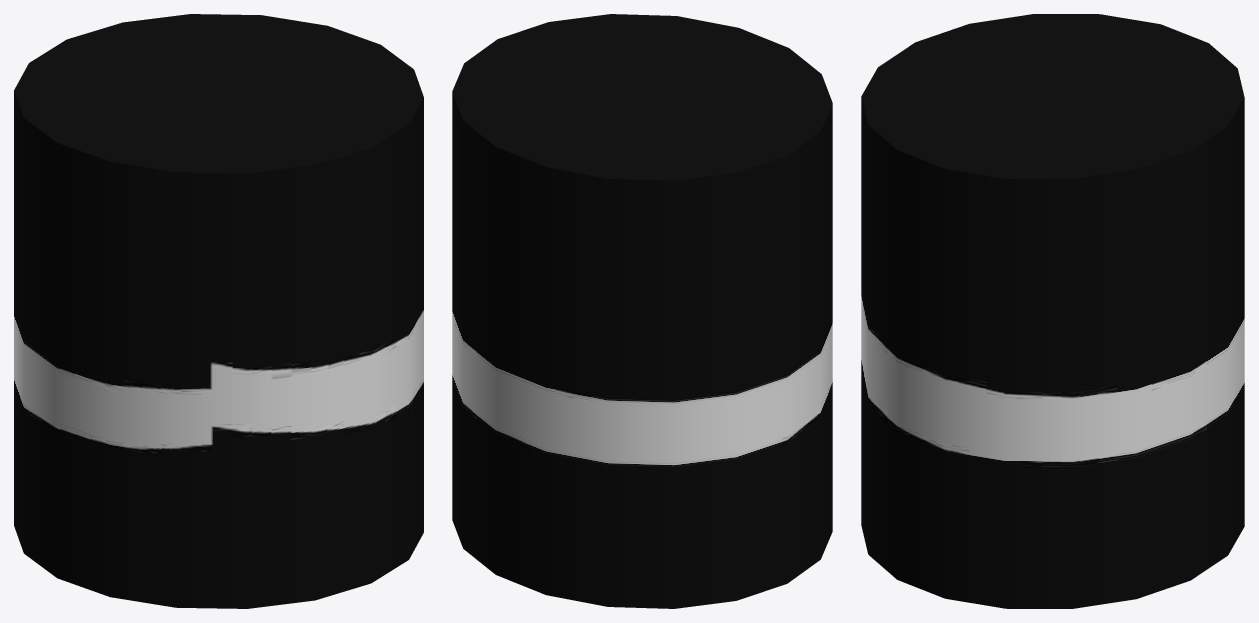
Rendered from Big_black.FBX.
3 views of the same model, side by side, from view 1: azimuth 30°, elevation 25°; view 2: azimuth 150°, elevation 25°; view 3: azimuth 270°, elevation 25° (orthographic).
Parts seen in each view (by area): view 1: Cylinder023; view 2: Cylinder023; view 3: Cylinder023.
Boxes of the visible parts, x1=… form: Cylinder023: x1=14, y1=14, x2=423, y2=608; Cylinder023: x1=452, y1=14, x2=832, y2=608; Cylinder023: x1=861, y1=14, x2=1244, y2=608.
Size of the model in its own units: 9.76 by 9.56 by 11.83.
Materials: 1 (1 with a texture image).
